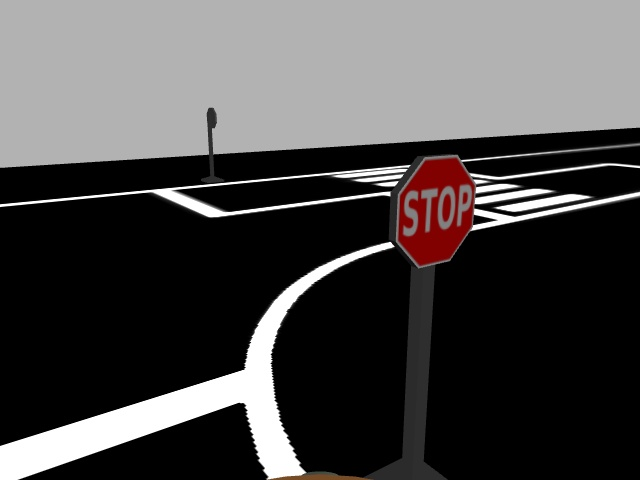stop: (382, 155, 482, 270)
